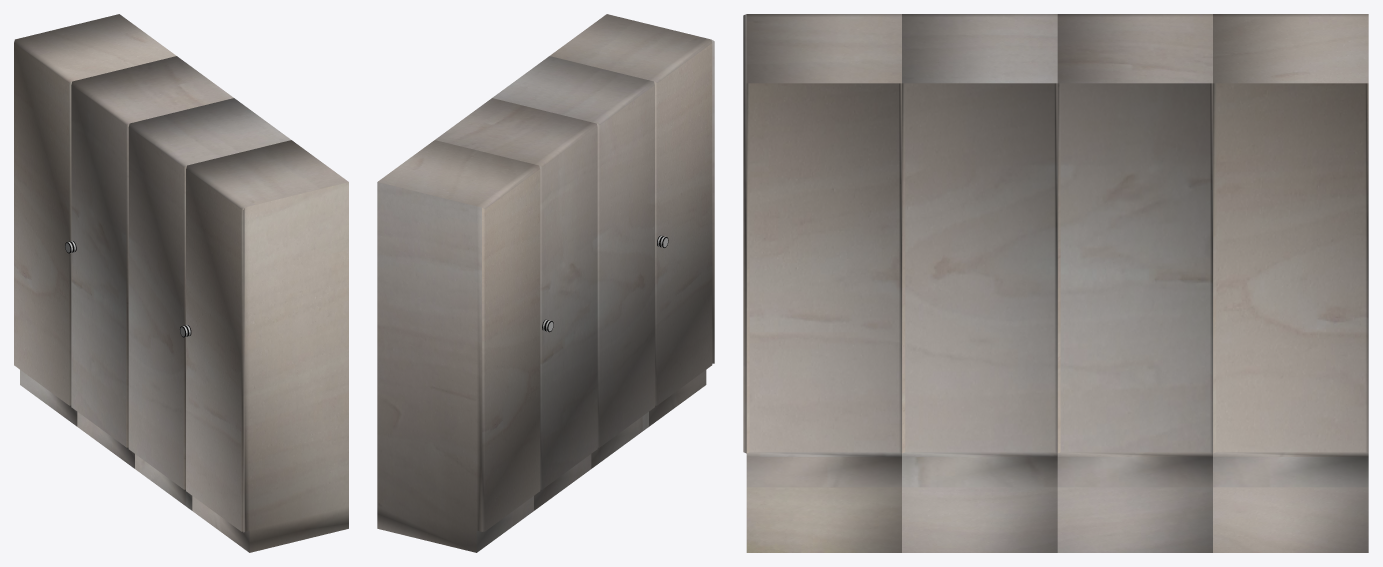
The model's file is Schrank.fbx.
3 views of the same model, side by side, from view 1: azimuth 30°, elevation 25°; view 2: azimuth 150°, elevation 25°; view 3: azimuth 270°, elevation 25° (orthographic). The views are drawn at different scales.
Parts seen in each view (by area): view 1: Closet; view 2: Closet; view 3: Closet.
Boxes of the visible parts, x1=… form: Closet: x1=14, y1=14, x2=348, y2=552; Closet: x1=377, y1=14, x2=714, y2=552; Closet: x1=743, y1=14, x2=1368, y2=552.
Size of the model in its own units: 67.94 by 200 by 241.
